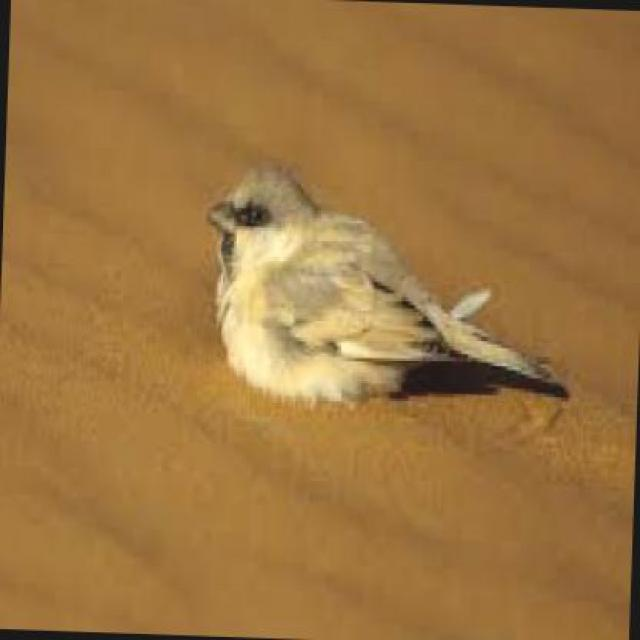Bird: (189, 143, 583, 437)
